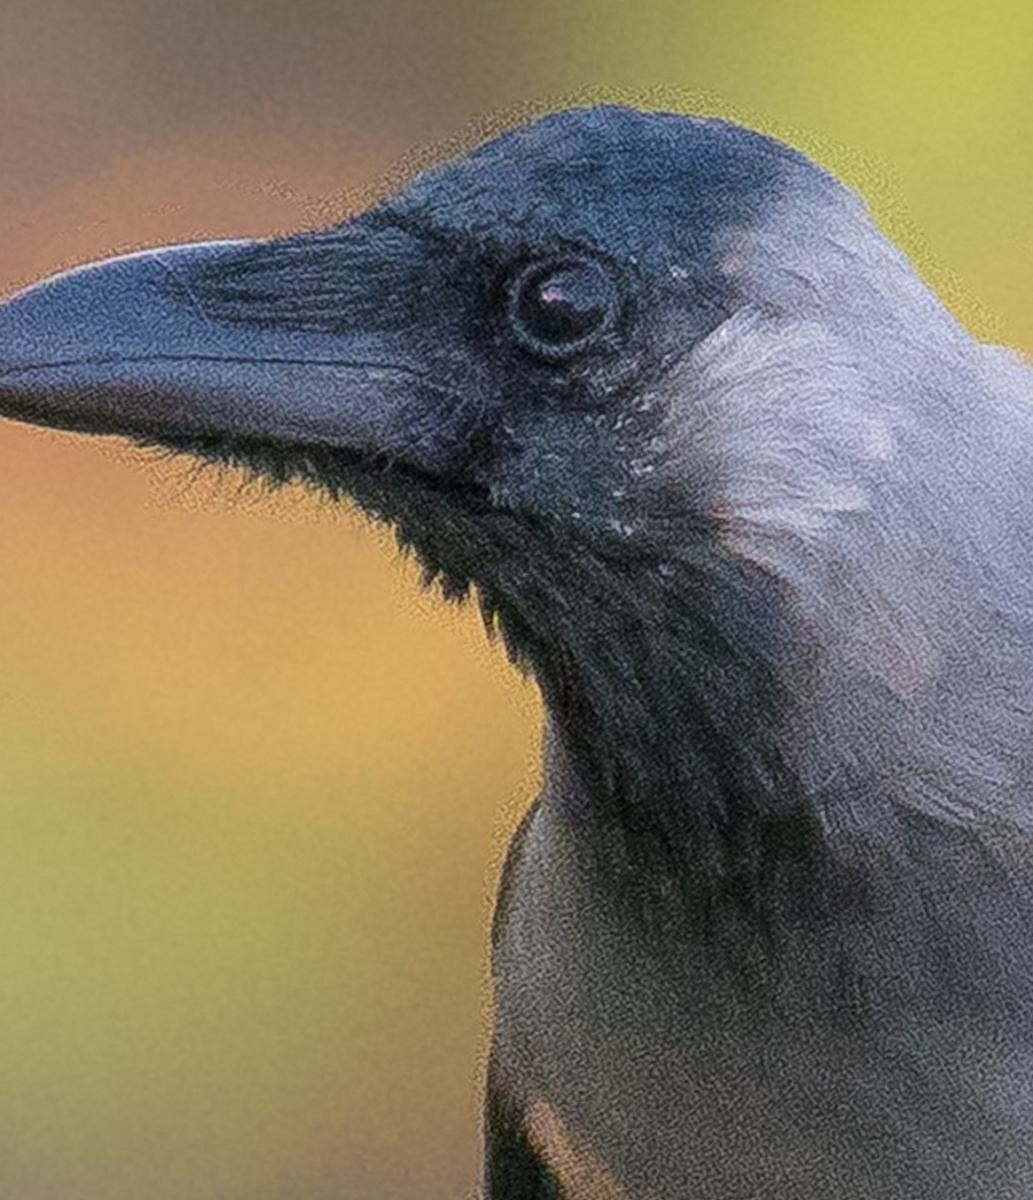crow: (22, 93, 1033, 1192)
